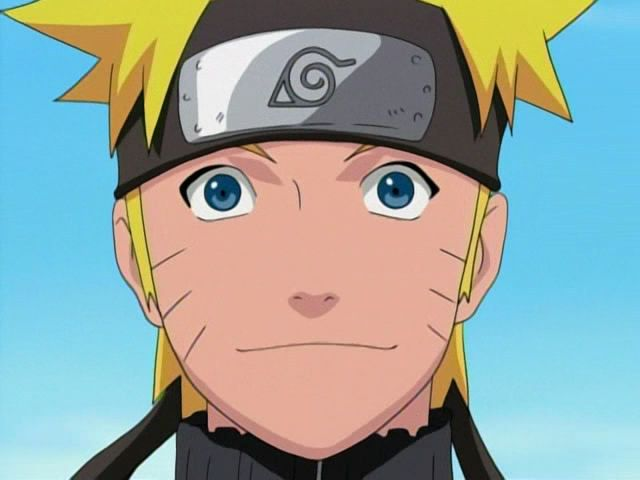naruto: (106, 3, 514, 464)
